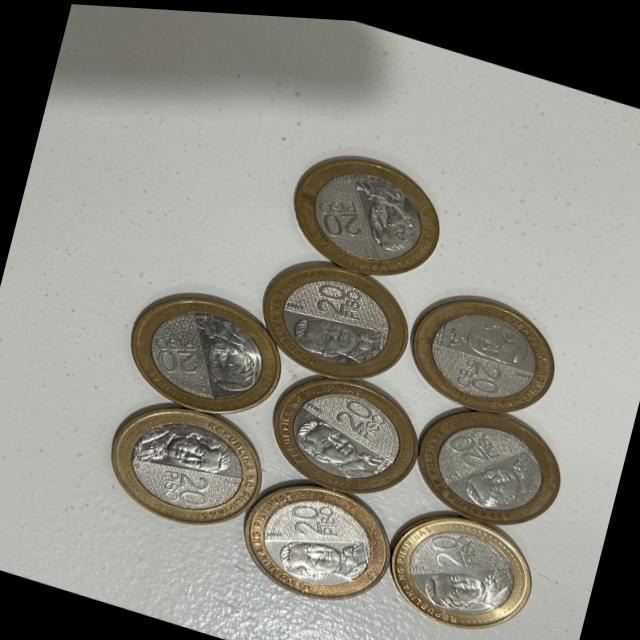20_New_Front: (133, 319, 223, 387), (266, 482, 351, 544), (317, 379, 393, 446), (302, 182, 371, 249), (289, 271, 371, 326), (438, 410, 507, 472), (413, 516, 486, 574), (445, 342, 516, 395), (157, 462, 223, 514)
